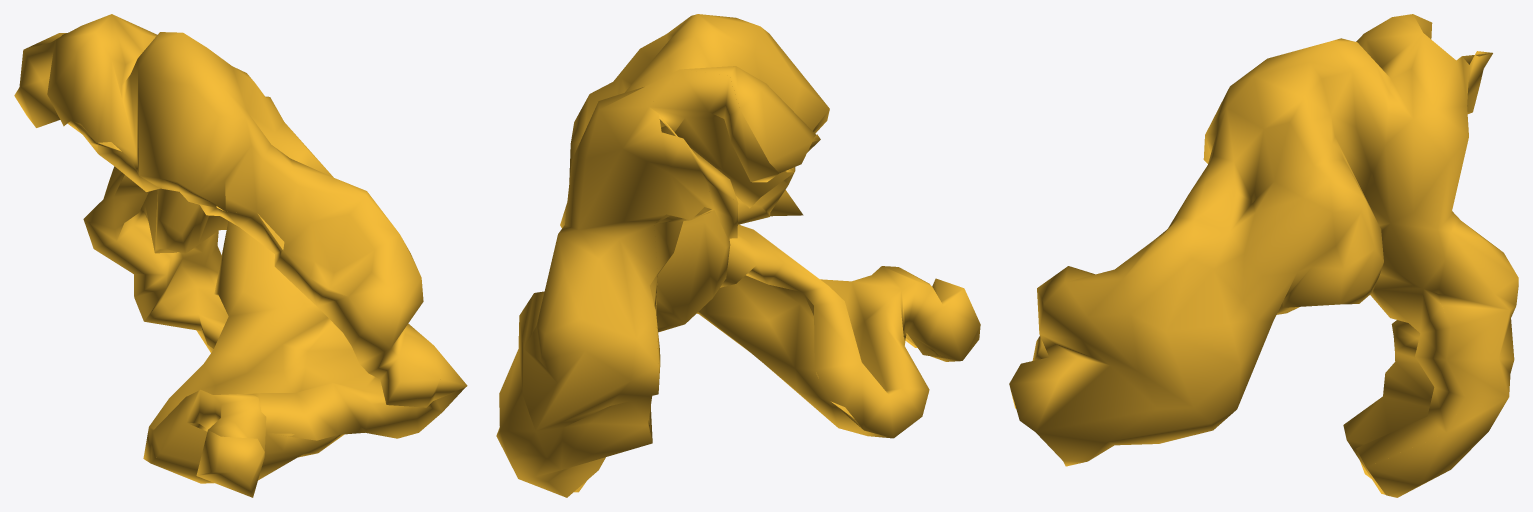
The model's file is nervoso-supramarginal-gyrus-l.glb.
3 renders of one model, left to right at view 1: azimuth 30°, elevation 25°; view 2: azimuth 150°, elevation 25°; view 3: azimuth 270°, elevation 25°, orthographic. The views are drawn at different scales.
Visible parts, largest first — view 1: Supramarginal gyrus.l; view 2: Supramarginal gyrus.l; view 3: Supramarginal gyrus.l.
Part boxes in pixels (bbox=[...]): Supramarginal gyrus.l: bbox=[14, 14, 467, 497]; Supramarginal gyrus.l: bbox=[496, 14, 980, 497]; Supramarginal gyrus.l: bbox=[1009, 14, 1518, 497].
Size of the model in its own units: 0.0302 by 0.044 by 0.049.
